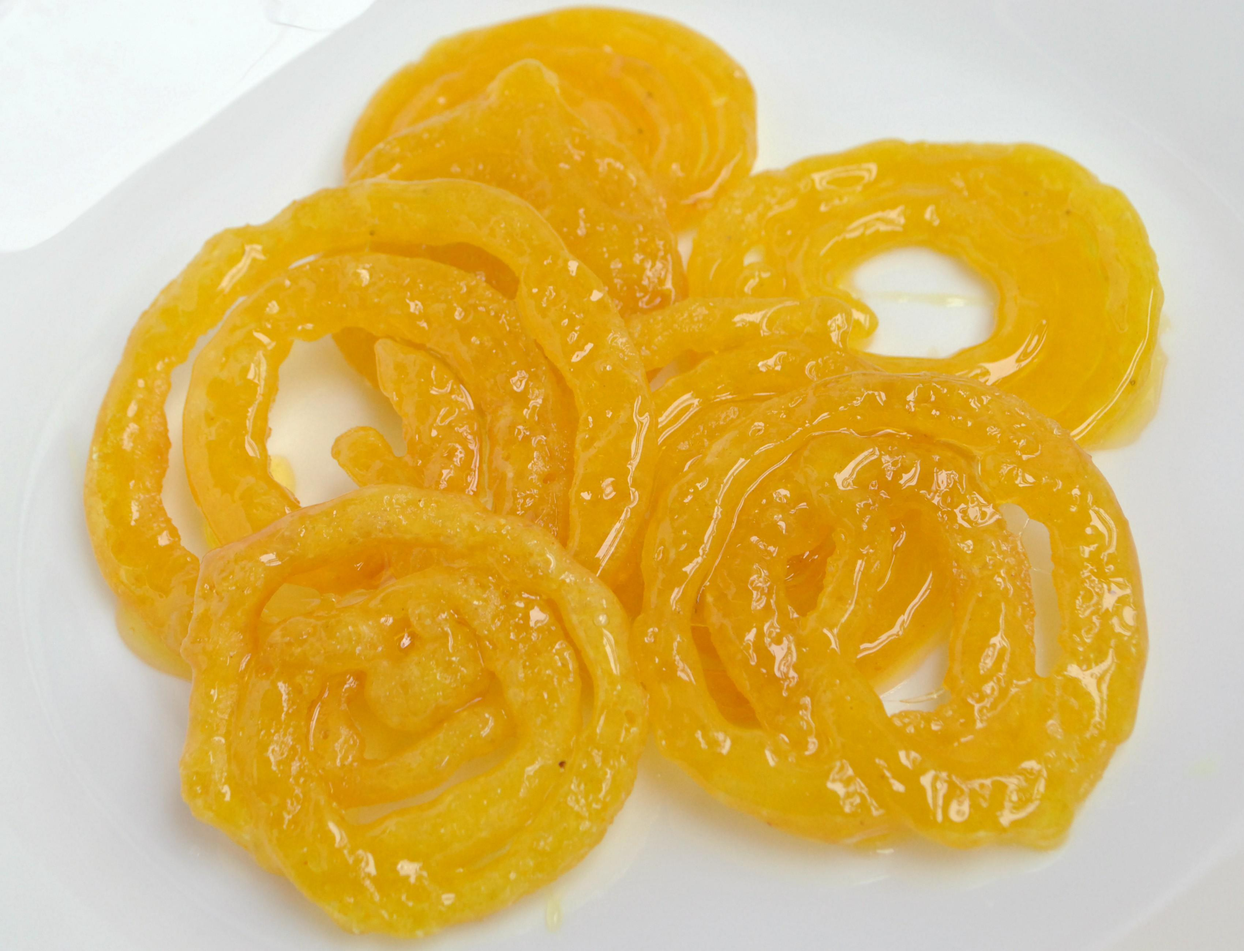Jalebi: (92, 2, 1157, 944)
